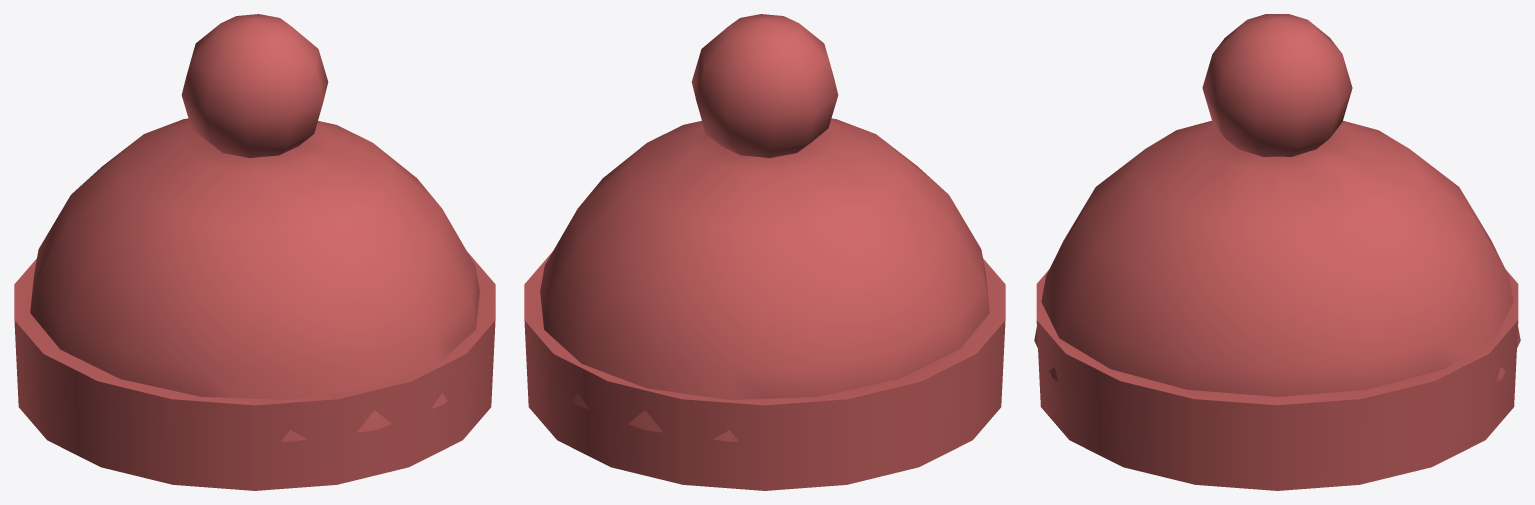
The model's file is acc_beanie.glb.
3 views of the same model, side by side, from view 1: azimuth 30°, elevation 25°; view 2: azimuth 150°, elevation 25°; view 3: azimuth 270°, elevation 25° (orthographic).
Visible parts, largest first — view 1: body; view 2: body; view 3: body.
Part boxes in pixels (bbox=[...]): body: bbox=[14, 14, 495, 490]; body: bbox=[524, 14, 1005, 490]; body: bbox=[1034, 14, 1520, 490].
Size of the model in its own units: 0.228 by 0.19 by 0.2268.
